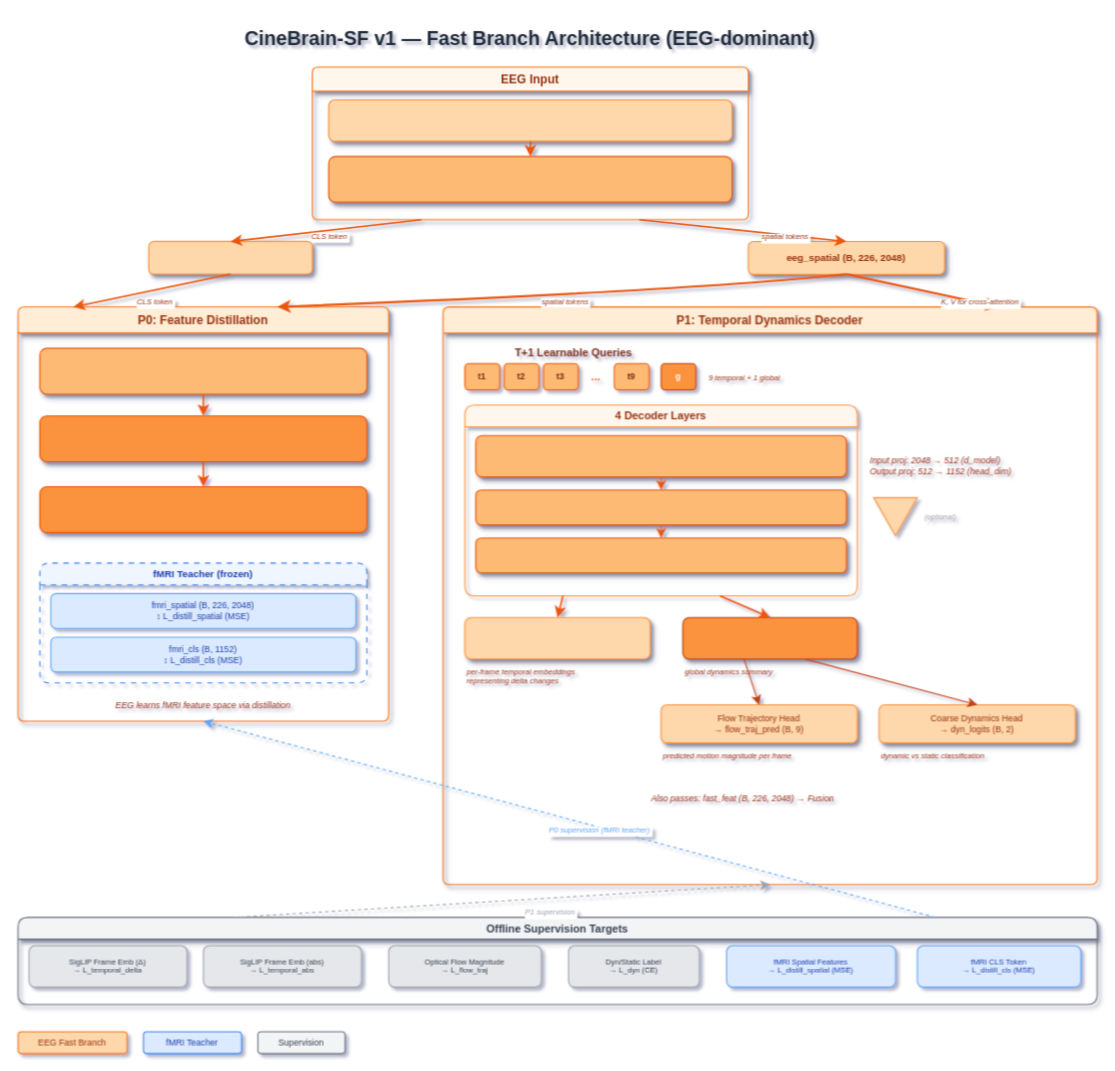
This 1115x1071 diagram has some shape labels left out. Here are the shapes that lost their labels. From the top down, the centre of each, then its label:
At (530,121): "EEG Signal: (B, 5, 64, 800) 5 trials × 64 channels × 800 samples".
At (530,180): "EEG Encoder (12-layer Transformer)".
At (231,259): "eeg_cls (B, 1152)".
At (203,372): "Temporal Attention Pool (B, 226, 2048) → (B, 2048)".
At (203,439): "Spatial Projector (B, 2048) → eeg_pooled_proj (B, 2048)".
At (661,457): "Cross-Attention Q: queries (T+1) K,V: EEG spatial tokens (226)".
At (203,510): "CLS Projector eeg_cls (B, 1152) → eeg_cls_proj (B, 1152)".
At (661,508): "Self-Attention (with optional causal mask)".
At (895,516): "Causal Mask".
At (661,556): "Feed-Forward Network".
At (558,639): "temporal_tokens (B, 9, 1152)".
At (770,639): "global_dyn_token (B, 1152)".
